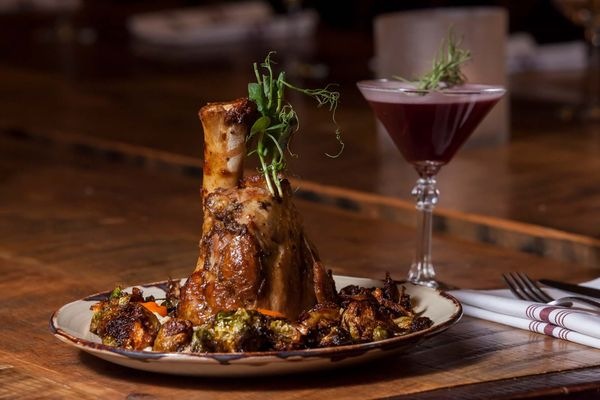burger: (502, 270, 600, 307)
